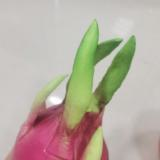pitaya: (10, 81, 107, 160)
